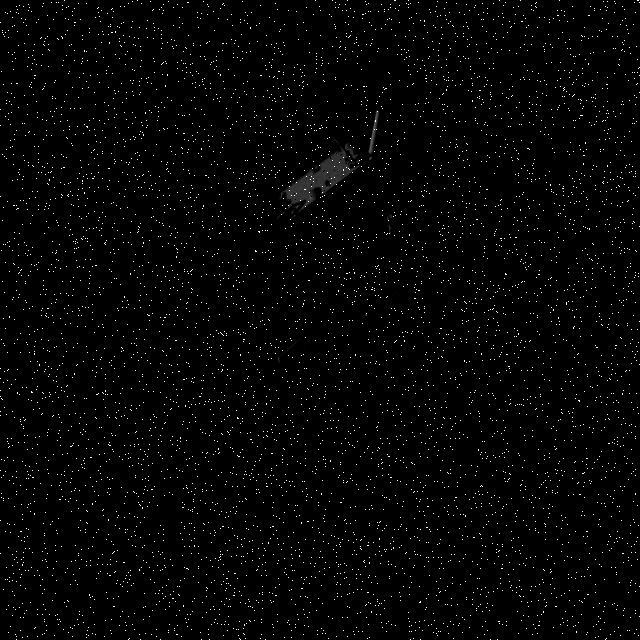satellite: (274, 92, 412, 220)
